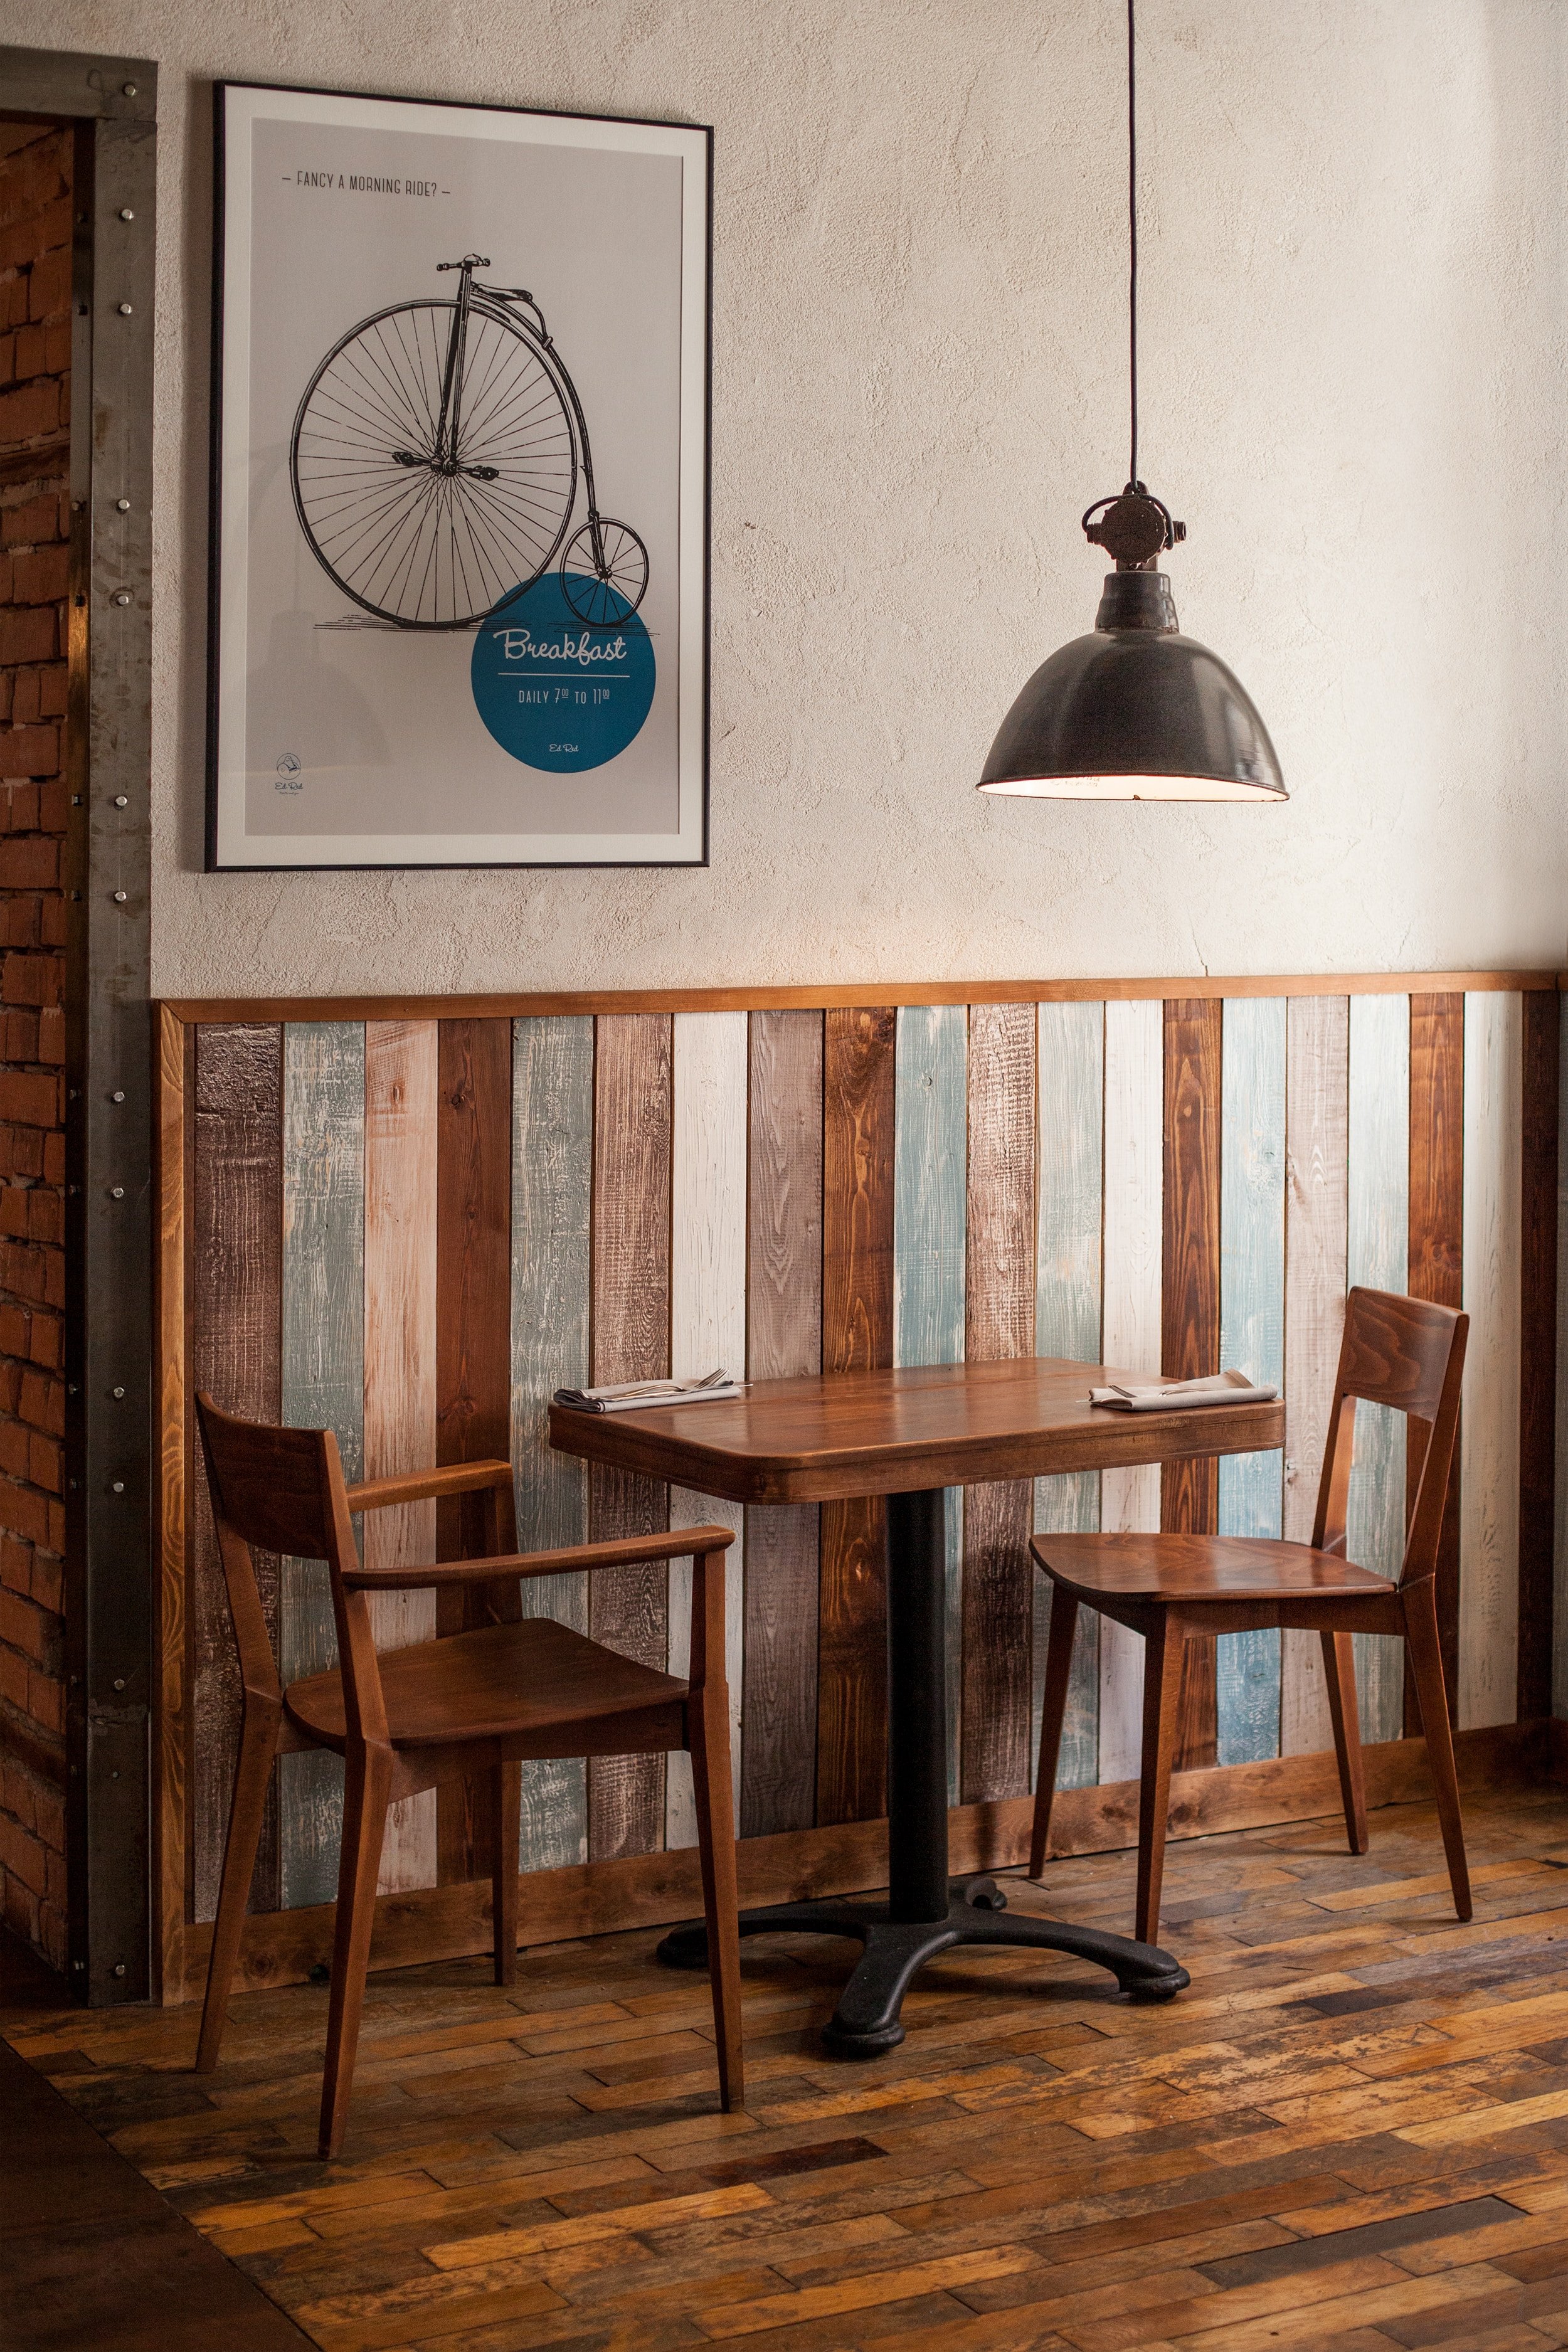Chair: (194, 1377, 756, 2177), (1025, 1267, 1472, 1950)
Painting: (212, 73, 712, 877)
Table: (537, 1347, 1286, 2067)
